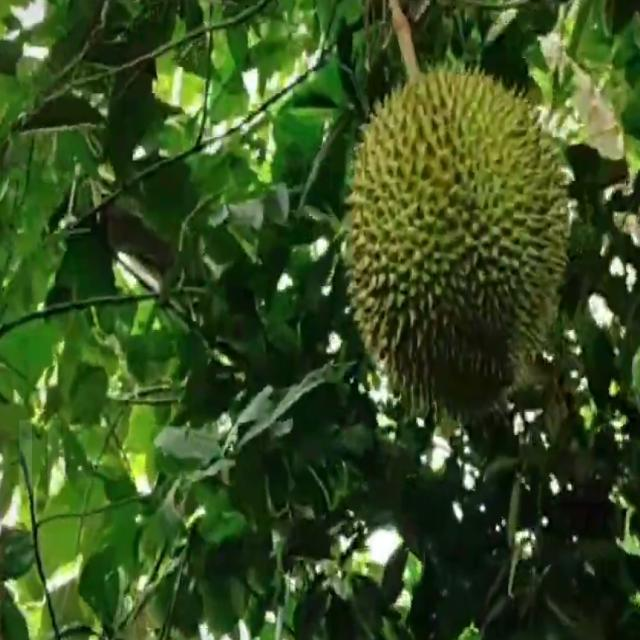immature: (338, 67, 572, 420)
